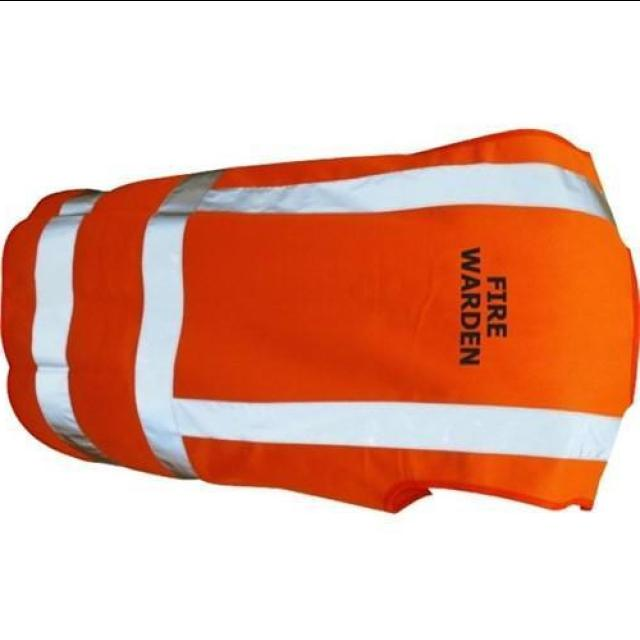jacket: (12, 96, 628, 530)
